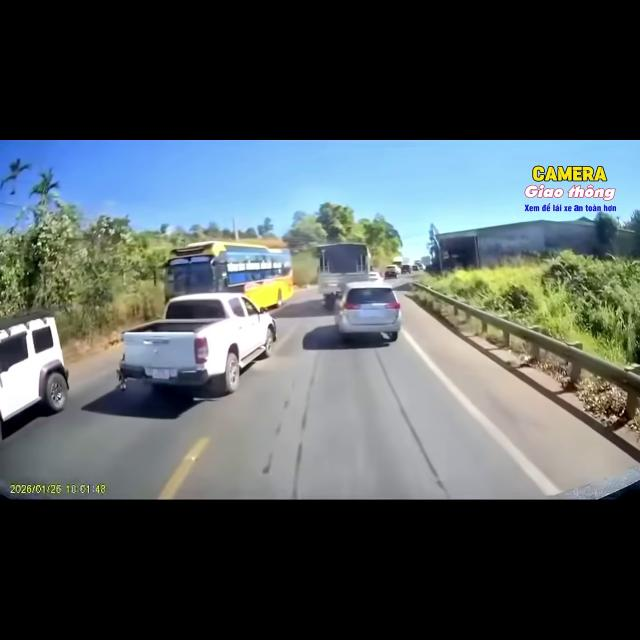bus: (165, 241, 293, 307)
car: (118, 293, 276, 393), (0, 312, 68, 440), (335, 282, 401, 341), (384, 265, 399, 278), (368, 272, 384, 282), (400, 265, 412, 275), (412, 265, 420, 270)
truck: (117, 293, 276, 393), (314, 243, 372, 311), (392, 257, 403, 268)
